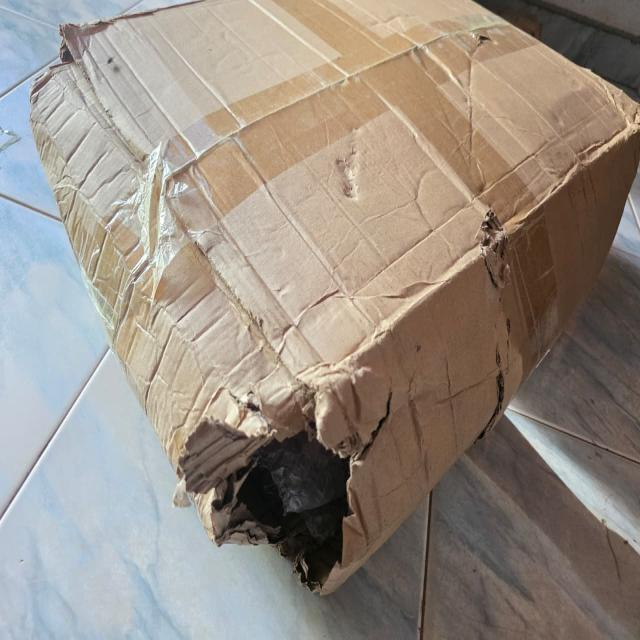carton_box: (16, 0, 640, 637)
package_damage: (136, 312, 468, 640), (461, 140, 550, 454), (13, 14, 163, 131), (456, 11, 506, 65)
